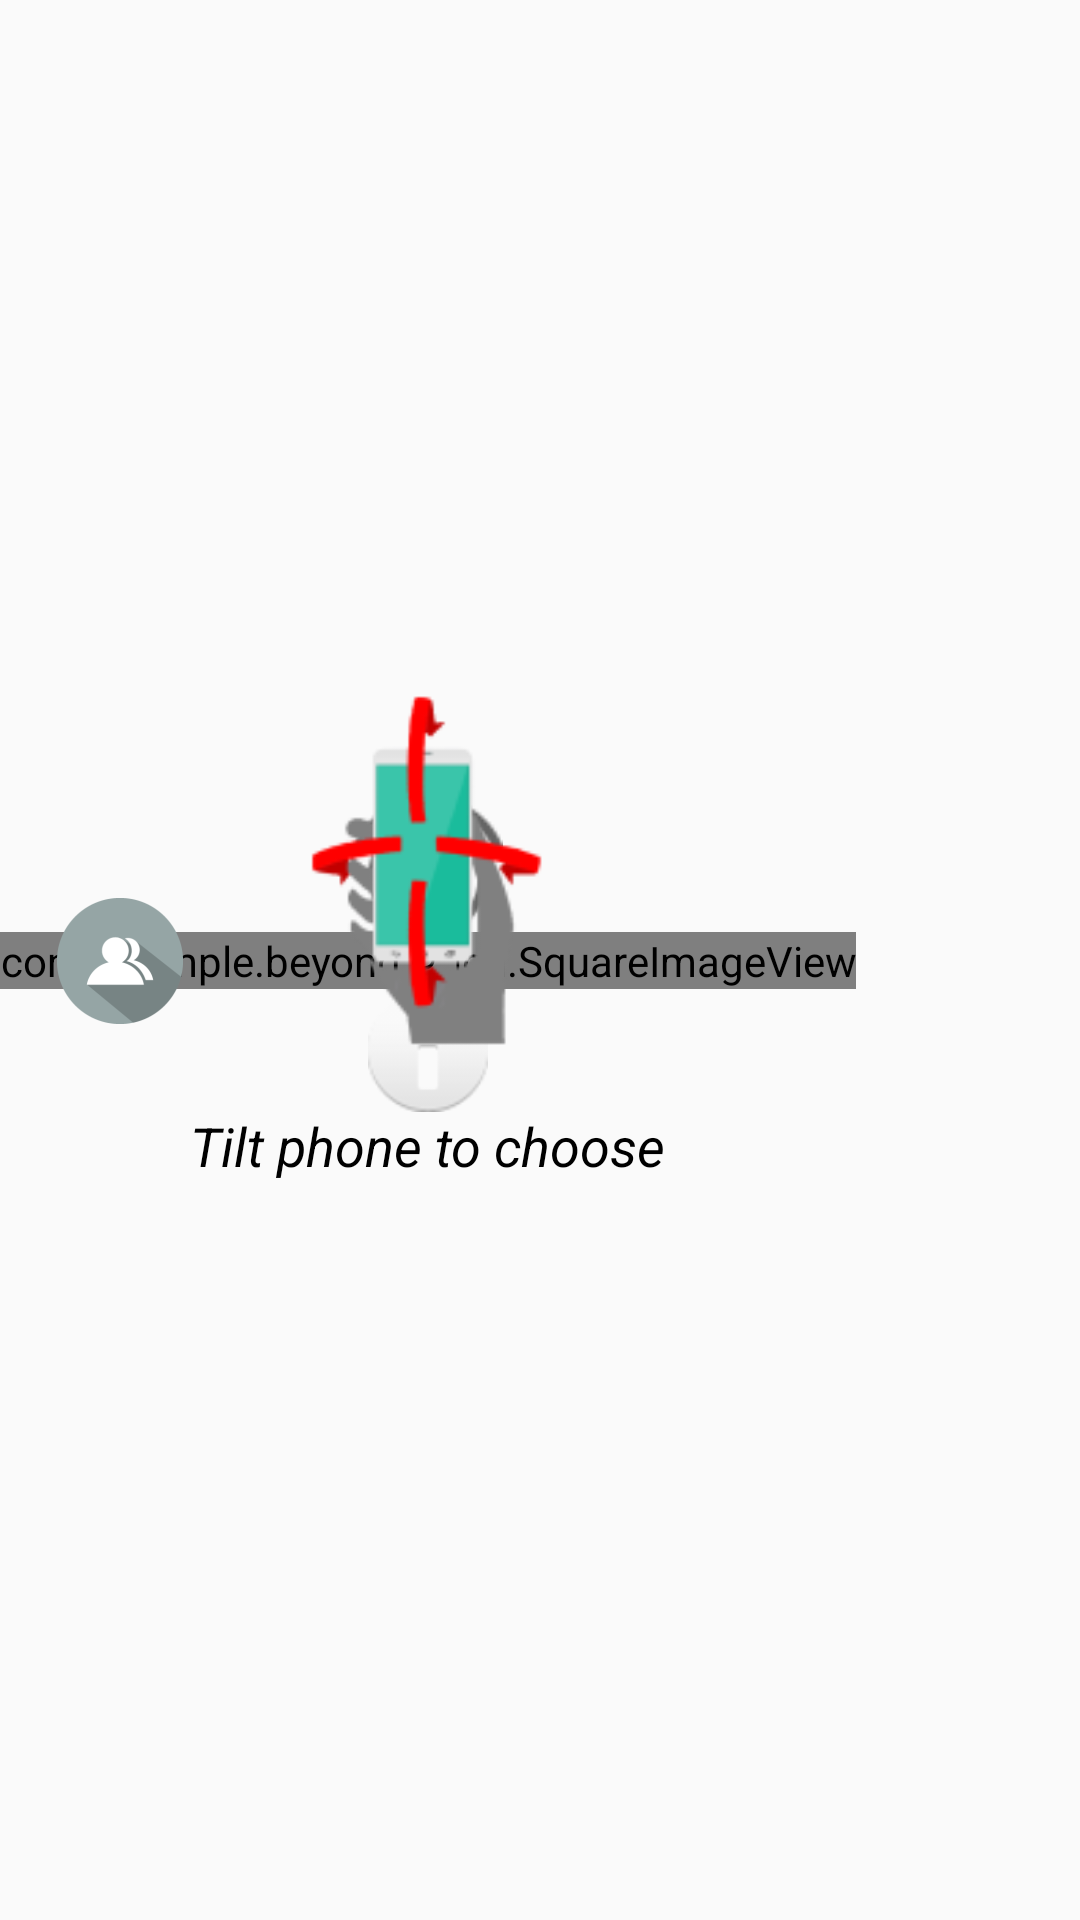

Icon bounding boxes for this 1080x1920 phone screenshot, format [x1, y1, x2, y2]:
contacts: [48, 898, 192, 1024]
